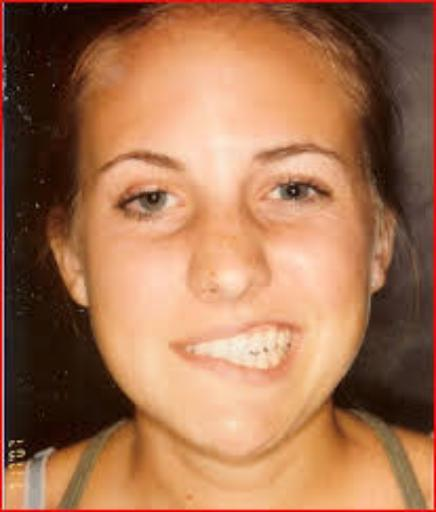left_eye: (259, 183, 332, 212)
left_lip_corner: (284, 317, 309, 341)
right_eye: (115, 188, 189, 219)
right_lip_corner: (160, 333, 191, 359)
